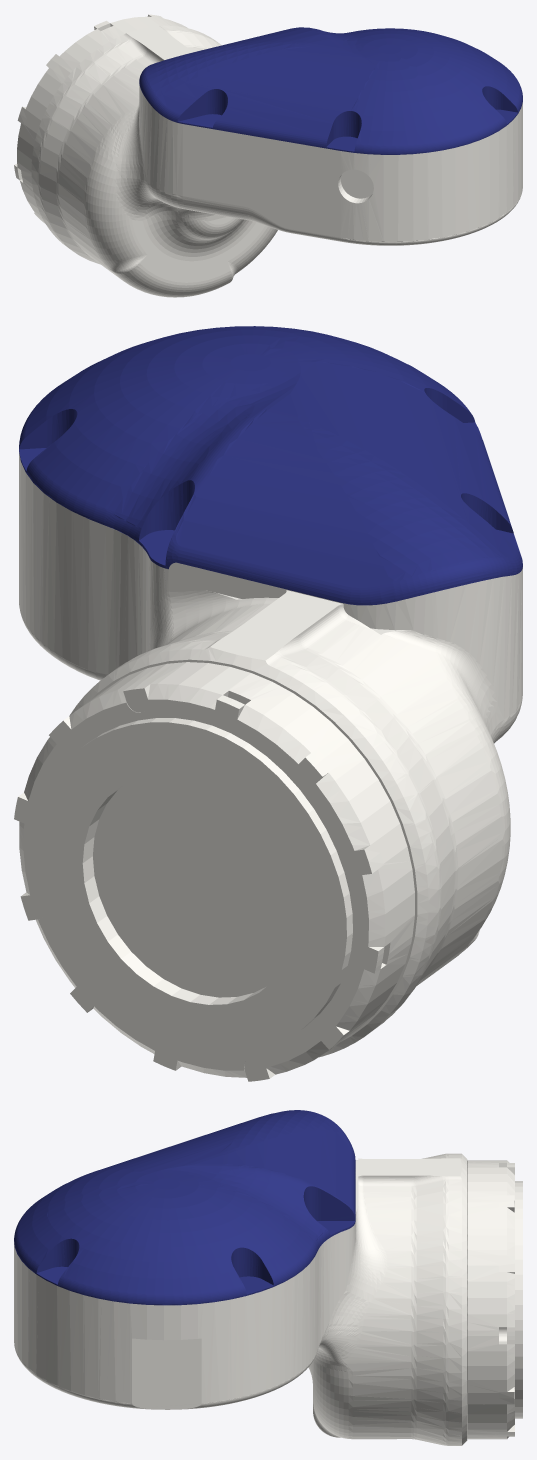
The picture shows the model from 3 angles, top to bottom: view 1: azimuth 30°, elevation 25°; view 2: azimuth 150°, elevation 25°; view 3: azimuth 270°, elevation 25°; orthographic projection. The views are drawn at different scales.
Visible parts, largest first — view 1: Link_U; view 2: Link_U; view 3: Link_U.
Boxes of the visible parts, x1,y1,x2,y2 form: Link_U: (14,14,522,297); Link_U: (14,326,522,1081); Link_U: (14,1110,522,1445).
Bounding box in the file's own units: 0.1725 × 0.1915 × 0.131.
Materials: 1 (1 with a texture image).
